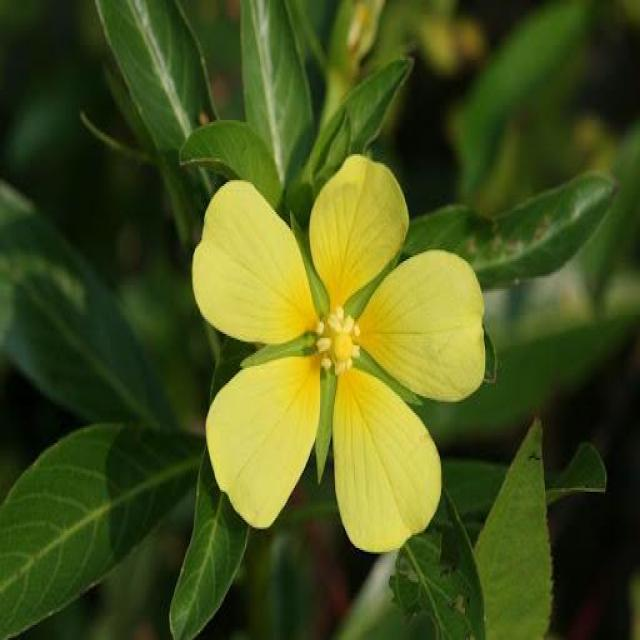organic waste: (182, 168, 500, 560)
